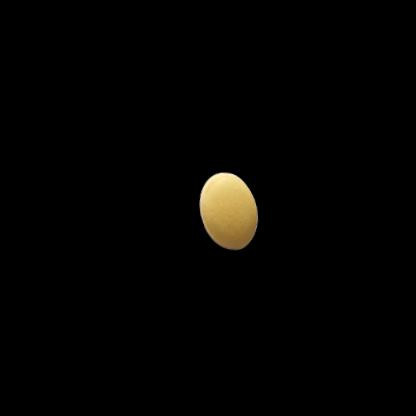rabeparzole20: (181, 151, 269, 265)
